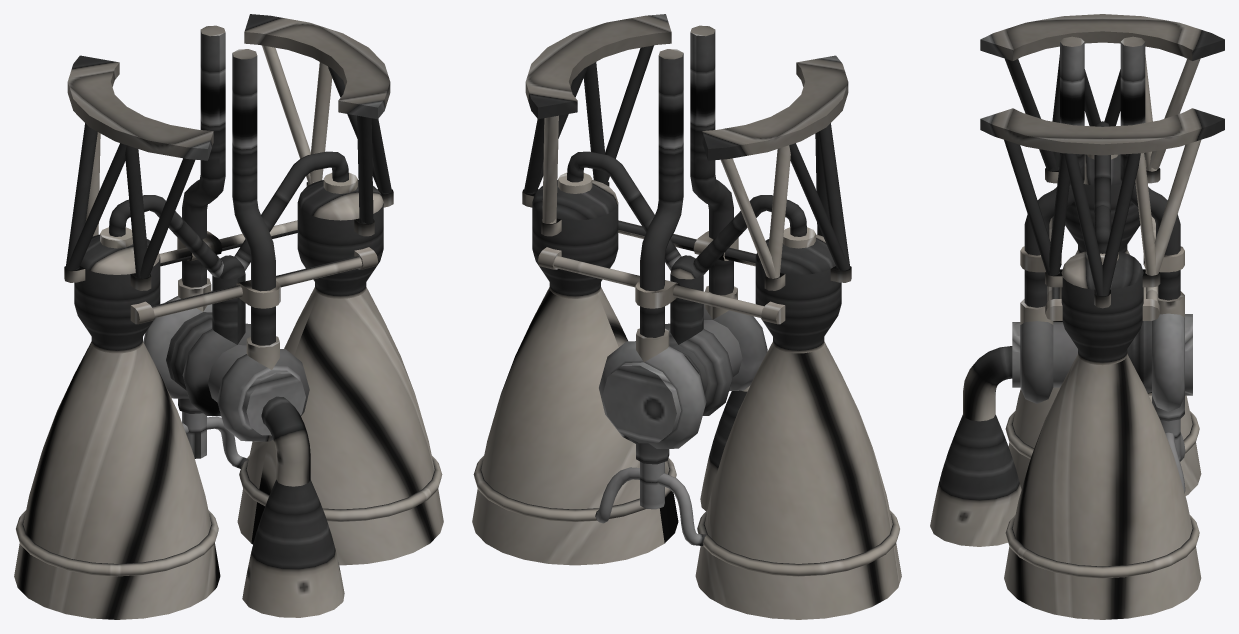
Rendered from compact upper stage engine.obj.
3 renders of one model, left to right at view 1: azimuth 30°, elevation 25°; view 2: azimuth 150°, elevation 25°; view 3: azimuth 270°, elevation 25°, orthographic. The views are drawn at different scales.
Parts seen in each view (by area): view 1: compact; view 2: compact; view 3: compact.
Boxes of the visible parts, x1,y1,x2,y2 form: compact: (14,14,443,619); compact: (472,14,901,619); compact: (930,14,1224,619).
Bounding box in the file's own units: 1.35 × 1.62 × 0.8969.
